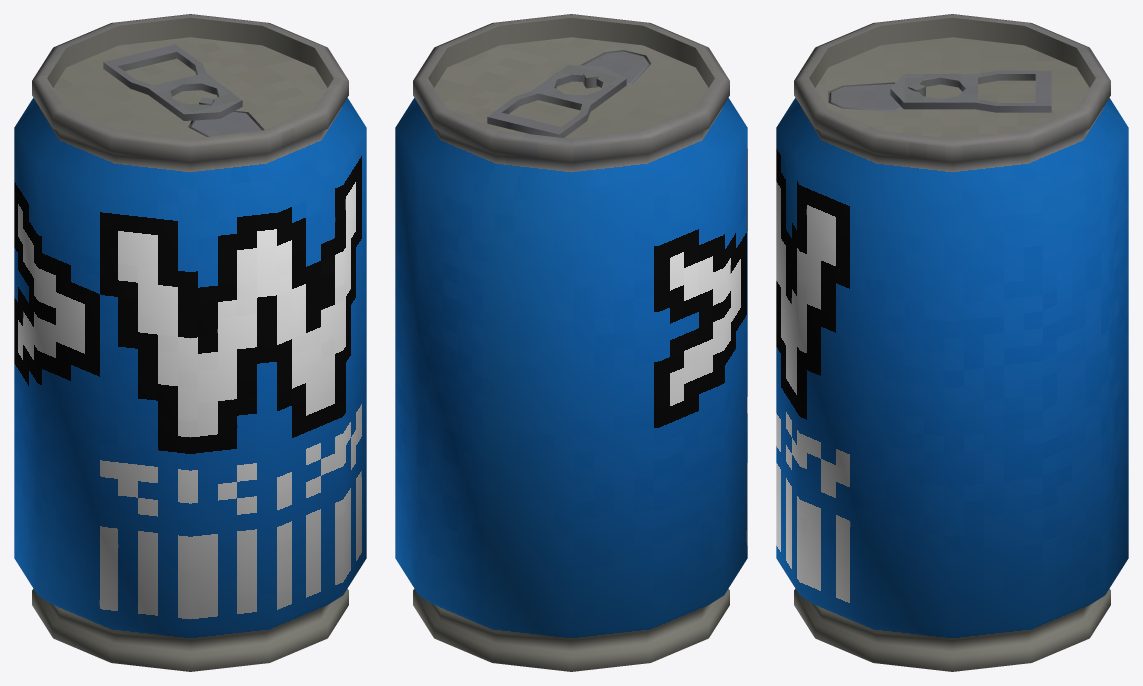
Rendered from can_water.obj.
3 views of the same model, side by side, from view 1: azimuth 30°, elevation 25°; view 2: azimuth 150°, elevation 25°; view 3: azimuth 270°, elevation 25° (orthographic).
Visible parts, largest first — view 1: canned_water; view 2: canned_water; view 3: canned_water.
Boxes of the visible parts, x1=… form: canned_water: x1=14, y1=14, x2=366, y2=671; canned_water: x1=395, y1=14, x2=747, y2=671; canned_water: x1=776, y1=14, x2=1128, y2=671.
Size of the model in its own units: 0.2242 by 0.3716 by 0.2242.
